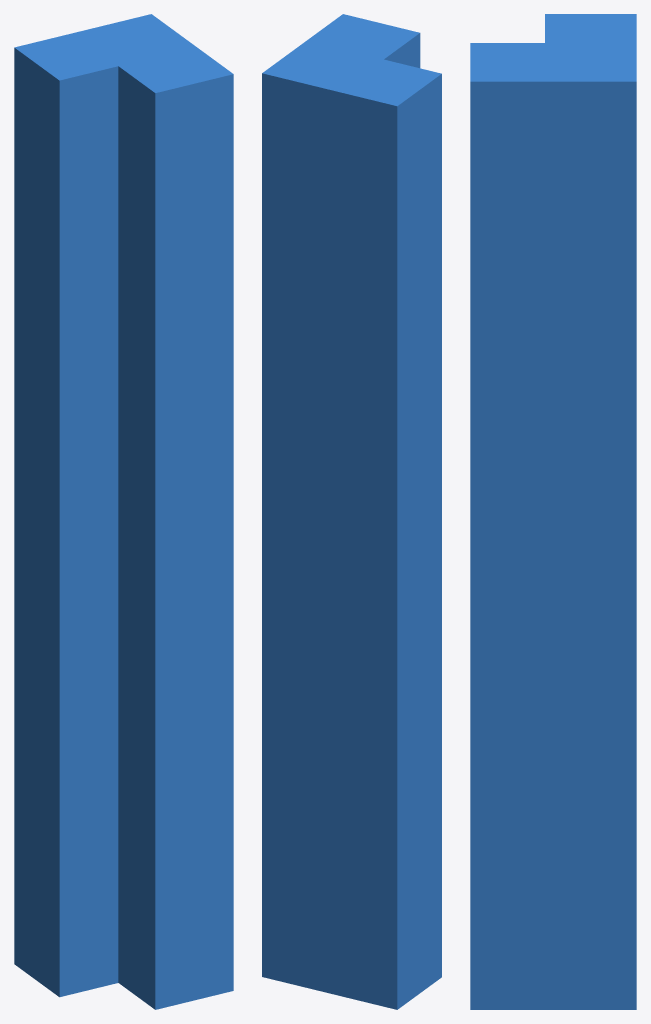
File: Collision_Corner_Exterior_Brick.fbx
3 views of the same model, side by side, from view 1: azimuth 30°, elevation 25°; view 2: azimuth 150°, elevation 25°; view 3: azimuth 270°, elevation 25° (orthographic). The views are drawn at different scales.
Parts seen in each view (by area): view 1: UCX_Corner_Exterior_Brick_1; view 2: UCX_Corner_Exterior_Brick_1; view 3: UCX_Corner_Exterior_Brick_1.
Part boxes in pixels (left/top/right/bottom): UCX_Corner_Exterior_Brick_1: left=14, top=14, right=233, bottom=1009; UCX_Corner_Exterior_Brick_1: left=262, top=14, right=441, bottom=1009; UCX_Corner_Exterior_Brick_1: left=470, top=14, right=636, bottom=1009.
Size of the model in its own units: 47 by 300 by 48.74.
